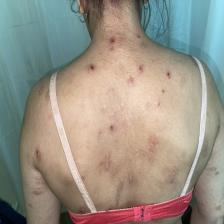DA: (86, 60, 180, 154)
